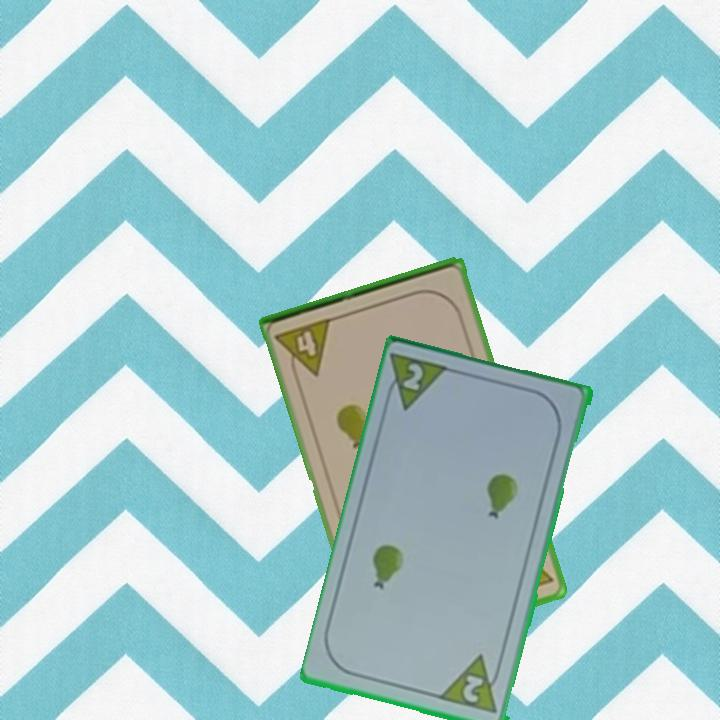2p: (459, 671, 487, 706), (400, 359, 427, 394)
4p: (272, 314, 335, 384)
